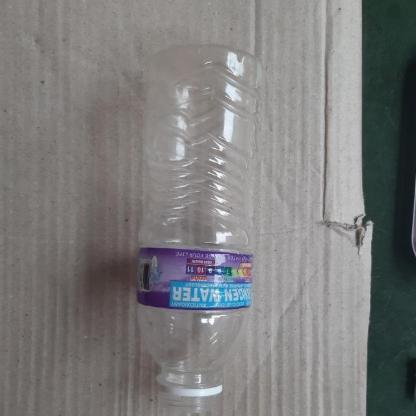Plastic Bottle: (134, 44, 264, 416)
